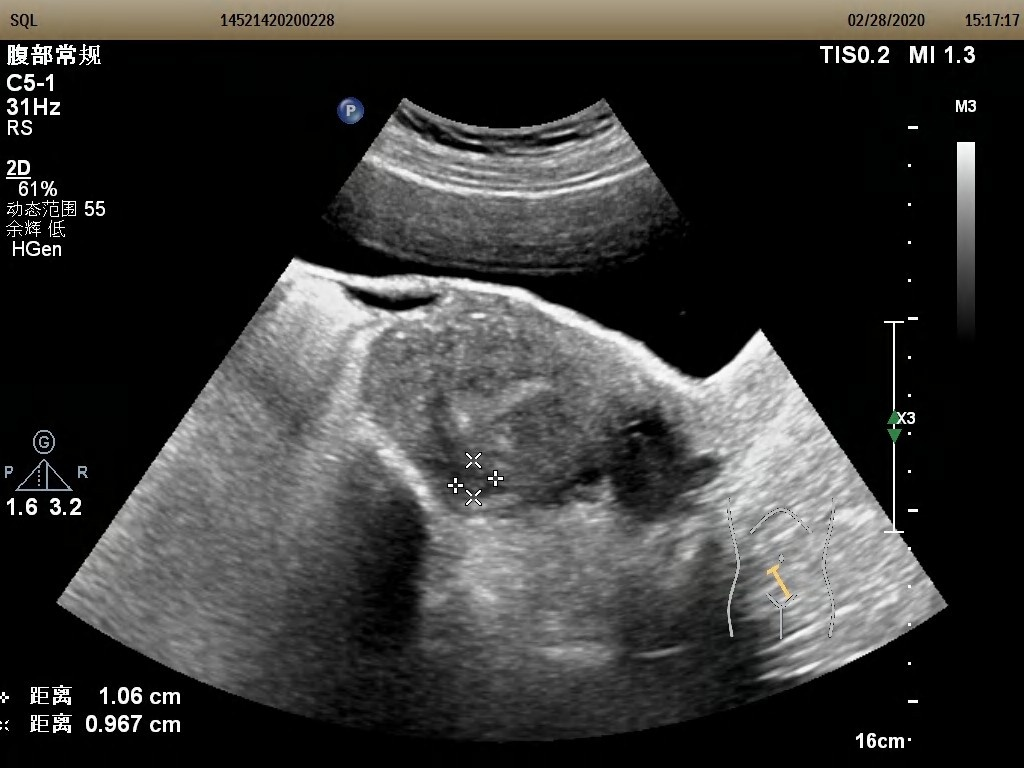肌瘤: (455, 460, 496, 498)
